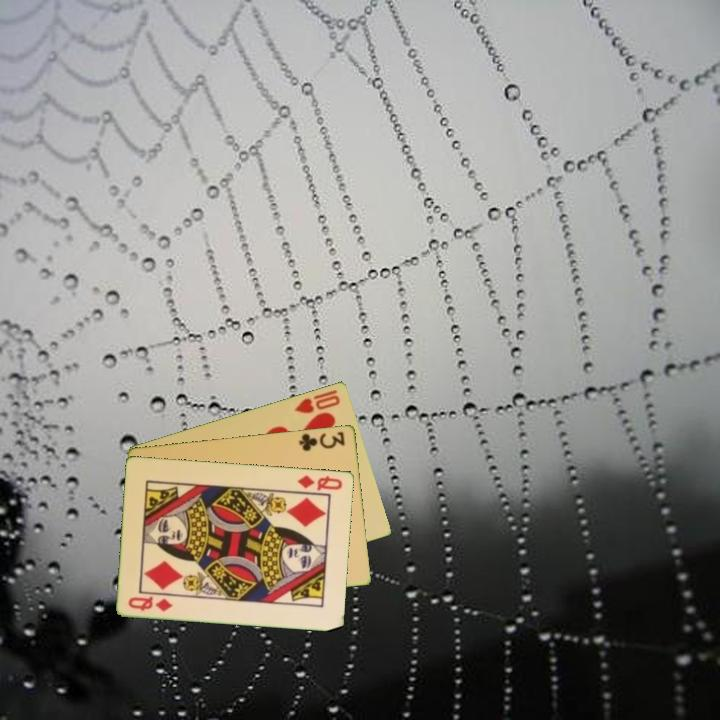10h: (291, 386, 343, 416)
3c: (296, 427, 348, 454)
Qd: (294, 471, 345, 493), (125, 592, 176, 614)
